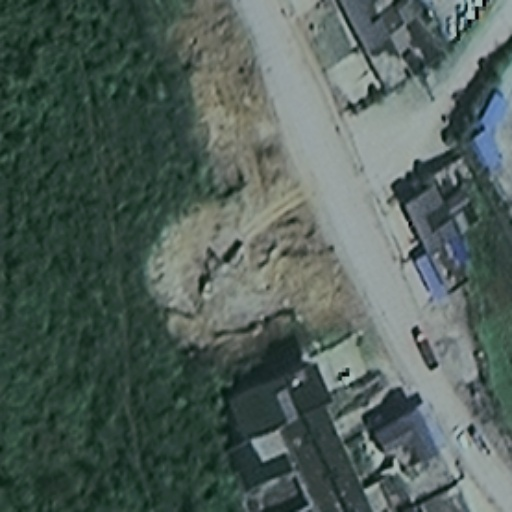landslide: (141, 187, 350, 355)
